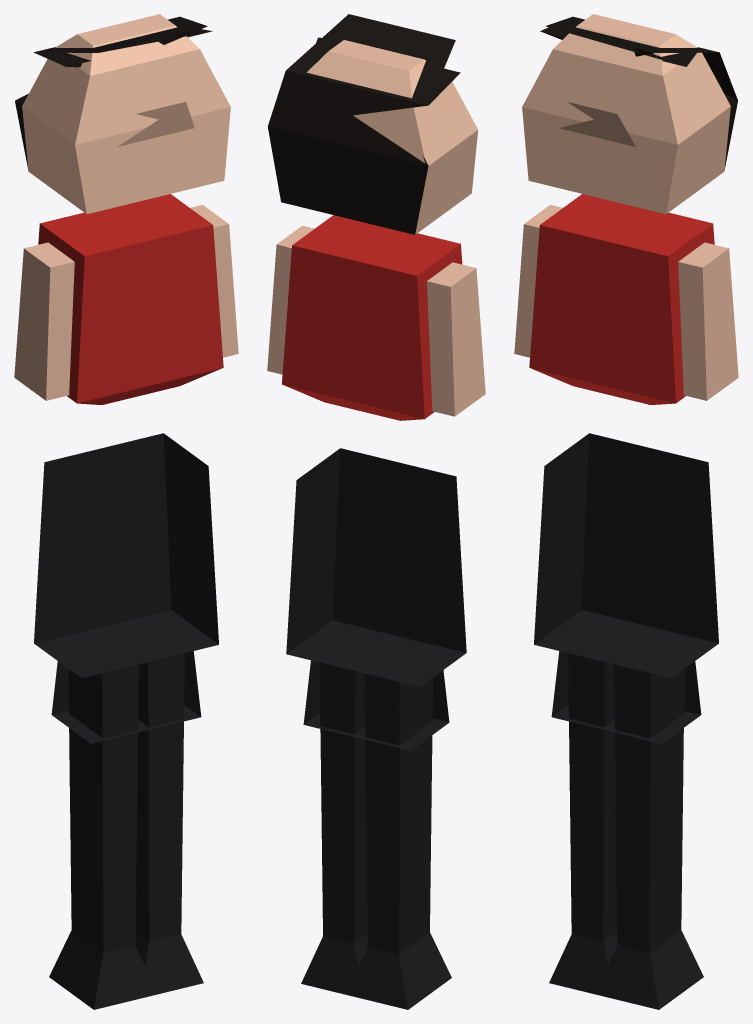
Rendered from npc_stylized_preview_v2.obj.
3 renders of one model, left to right at view 1: azimuth 30°, elevation 25°; view 2: azimuth 150°, elevation 25°; view 3: azimuth 330°, elevation 25°, orthographic. The views are drawn at different scales.
Visible parts, largest first — view 1: waist, head, upper_torso, left_leg, right_leg, left_arm, hips, right_arm, hair, face_detail, torso; view 2: waist, upper_torso, hair, left_leg, right_leg, head, left_arm, hips, right_arm, torso; view 3: waist, head, upper_torso, right_leg, left_leg, right_arm, hair, hips, left_arm, face_detail, torso.
Boxes of the visible parts, bbox=[...] form: waist: bbox=[34, 433, 218, 678]; head: bbox=[22, 14, 230, 214]; upper_torso: bbox=[38, 194, 223, 403]; left_leg: bbox=[49, 632, 157, 1009]; right_leg: bbox=[114, 621, 203, 997]; left_arm: bbox=[14, 242, 74, 400]; hips: bbox=[51, 651, 201, 743]; right_arm: bbox=[190, 205, 238, 357]; hair: bbox=[15, 16, 212, 169]; face_detail: bbox=[117, 102, 194, 146]; torso: bbox=[77, 368, 222, 404]; waist: bbox=[286, 448, 466, 686]; upper_torso: bbox=[282, 215, 462, 419]; hair: bbox=[267, 14, 460, 234]; left_leg: bbox=[346, 642, 451, 1009]; right_leg: bbox=[301, 631, 388, 997]; head: bbox=[307, 40, 477, 234]; left_arm: bbox=[427, 262, 485, 416]; hips: bbox=[303, 660, 449, 750]; right_arm: bbox=[267, 225, 314, 374]; torso: bbox=[283, 384, 423, 420]; waist: bbox=[534, 433, 718, 678]; head: bbox=[522, 14, 730, 214]; upper_torso: bbox=[529, 194, 714, 403]; right_leg: bbox=[595, 632, 703, 1009]; left_leg: bbox=[549, 621, 638, 998]; right_arm: bbox=[678, 242, 738, 400]; hair: bbox=[540, 16, 737, 169]; hips: bbox=[551, 651, 701, 743]; left_arm: bbox=[514, 205, 562, 357]; face_detail: bbox=[558, 102, 635, 146]; torso: bbox=[530, 368, 675, 404].
Size of the model in its own units: 0.84 by 4 by 0.48.
